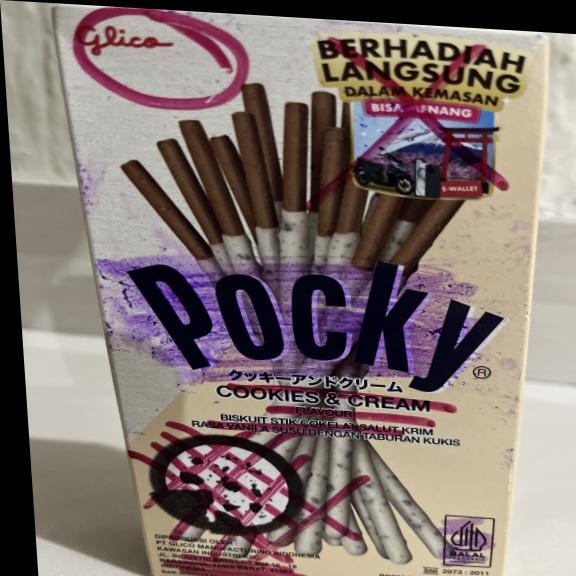Kertas: (52, 3, 576, 576)
